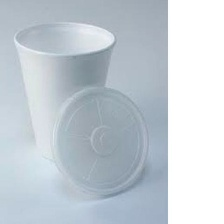paper_cup: (10, 18, 119, 166)
